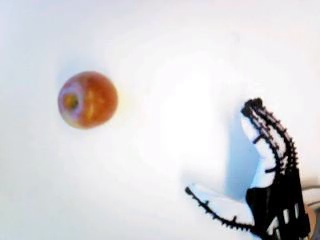apple: (56, 69, 117, 128)
hand: (183, 95, 320, 240)
